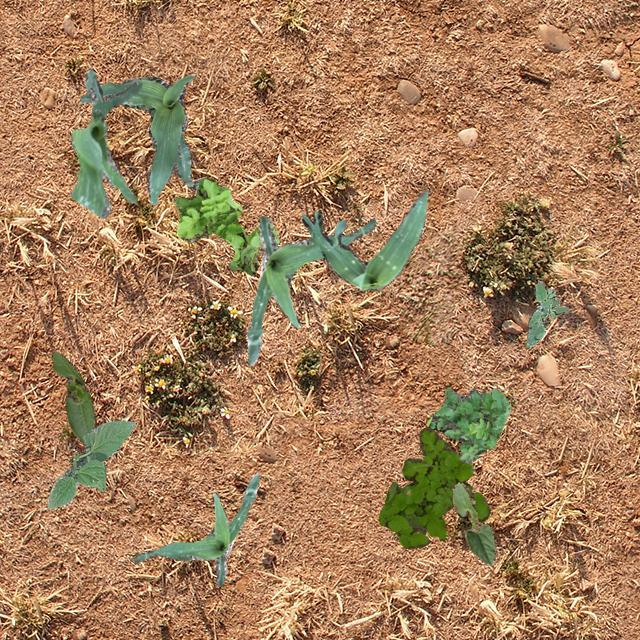crop: (246, 214, 374, 366), (78, 74, 194, 204), (132, 472, 258, 584), (300, 190, 426, 290), (70, 68, 140, 218), (46, 420, 134, 508), (50, 350, 94, 444), (452, 482, 496, 564)
weed: (378, 427, 490, 548), (172, 176, 278, 274), (426, 386, 510, 462), (524, 280, 568, 346), (187, 178, 203, 195)
